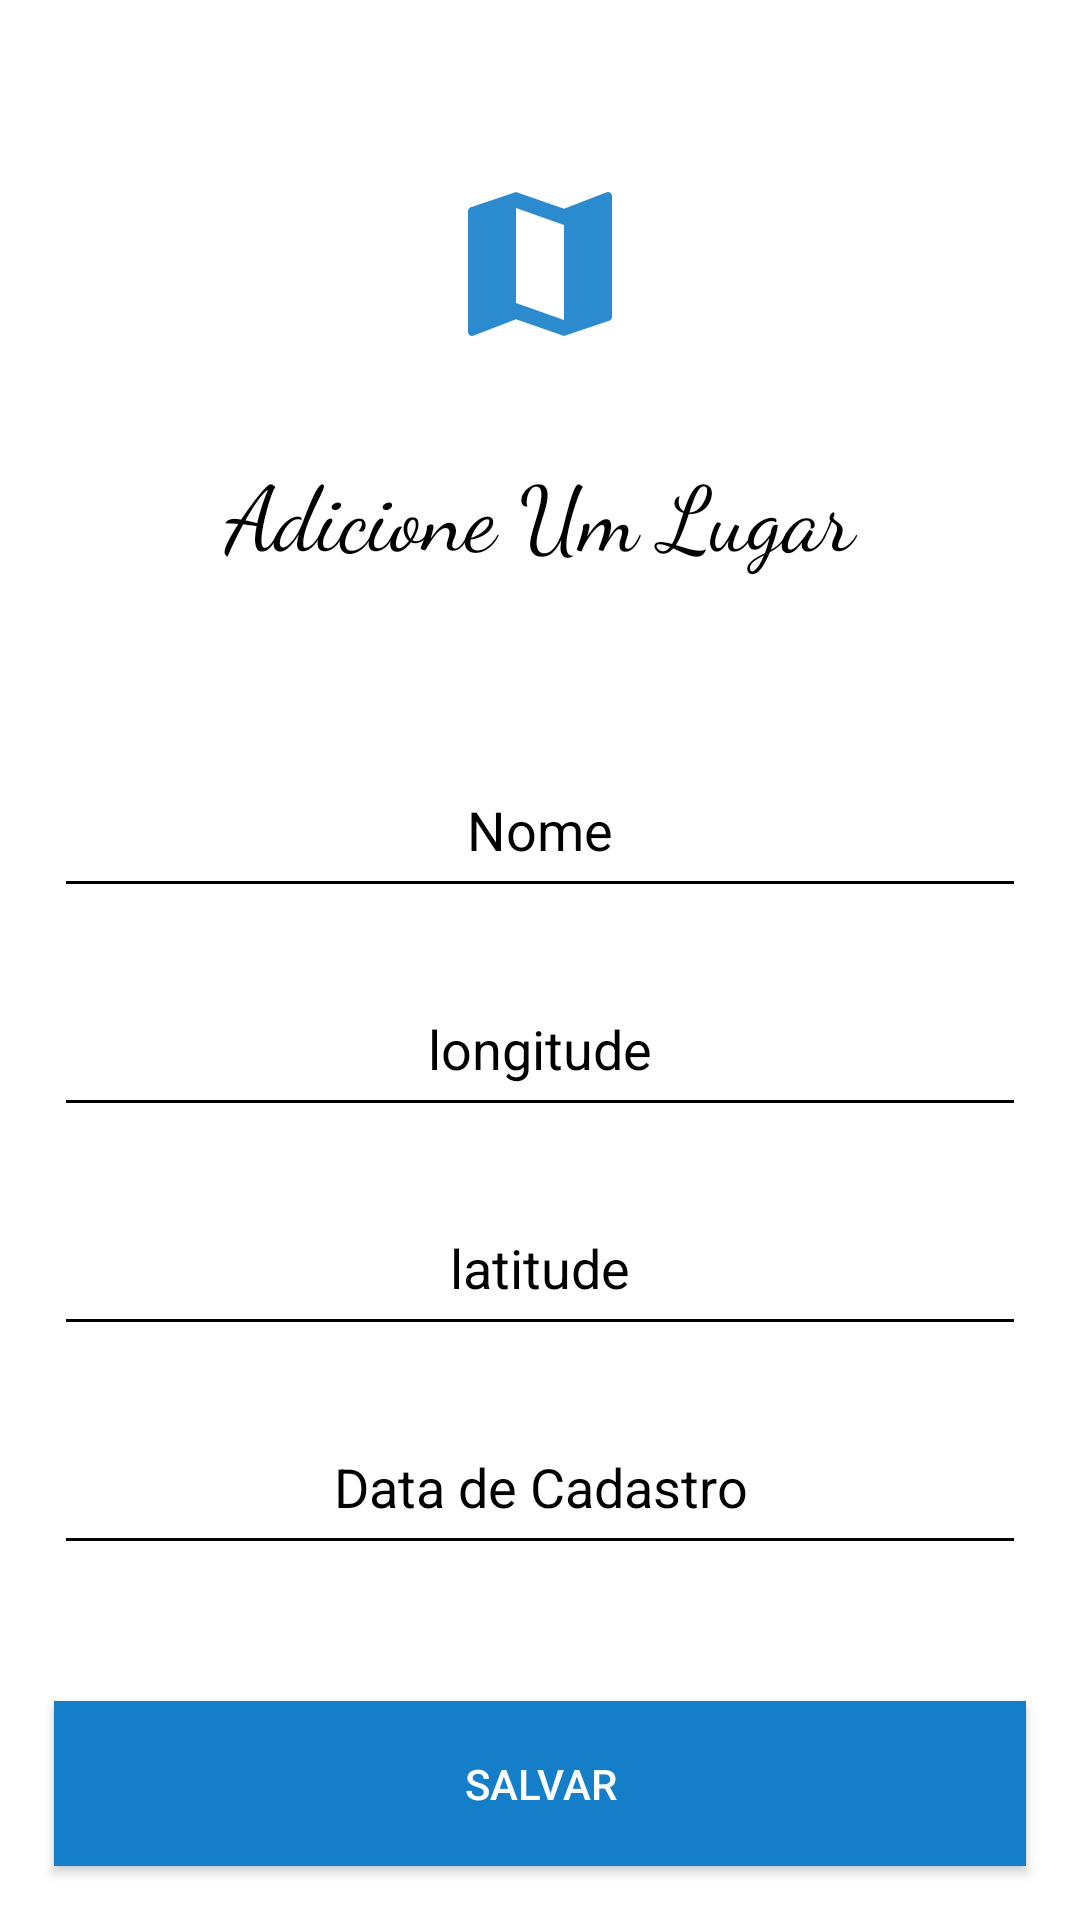

Named icons in this screenshot (1080w x 1920h) and their centers, (x=x, y=y):
map: (x=540, y=264)
